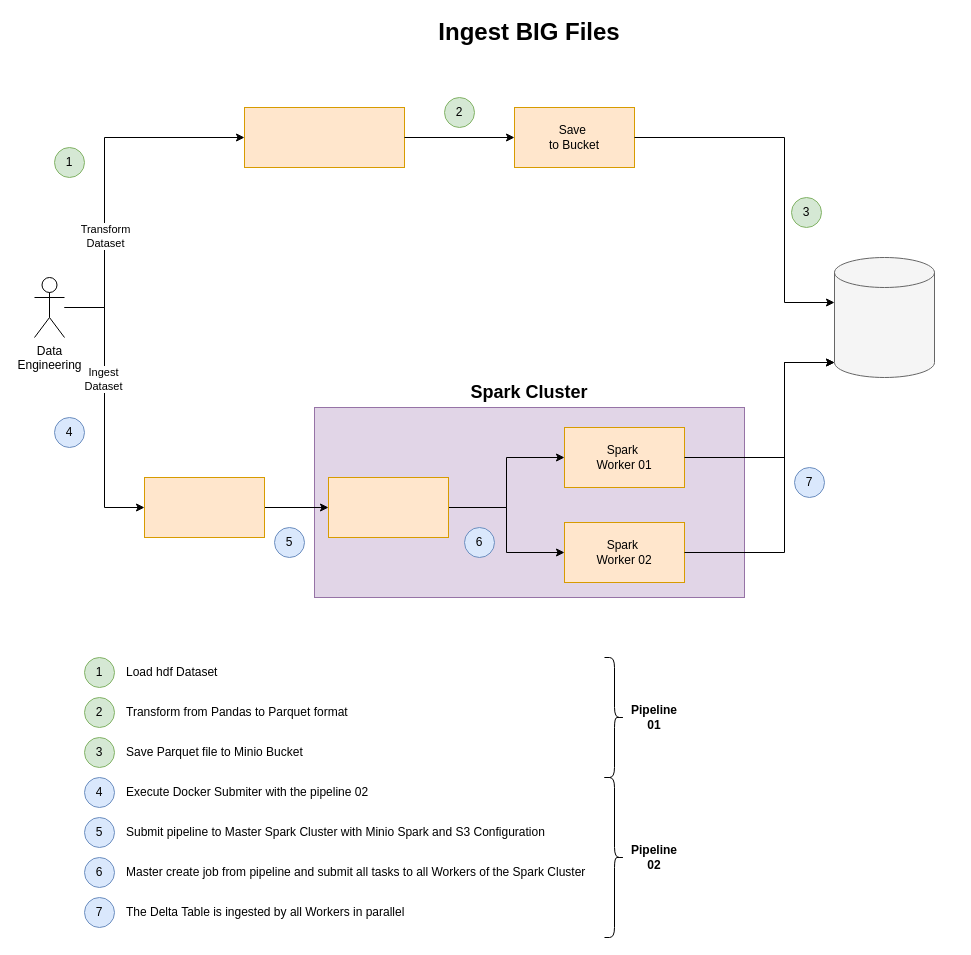
Some shapes in this 971 by 955 pixel diagram are drawn without their labels. Each missing label, with the centre of its shape:
minio: point (884, 317)
Spark Master: point (388, 507)
Spark Submit: point (204, 507)
Transform hdz --> pandas --> parquet: point (324, 137)
